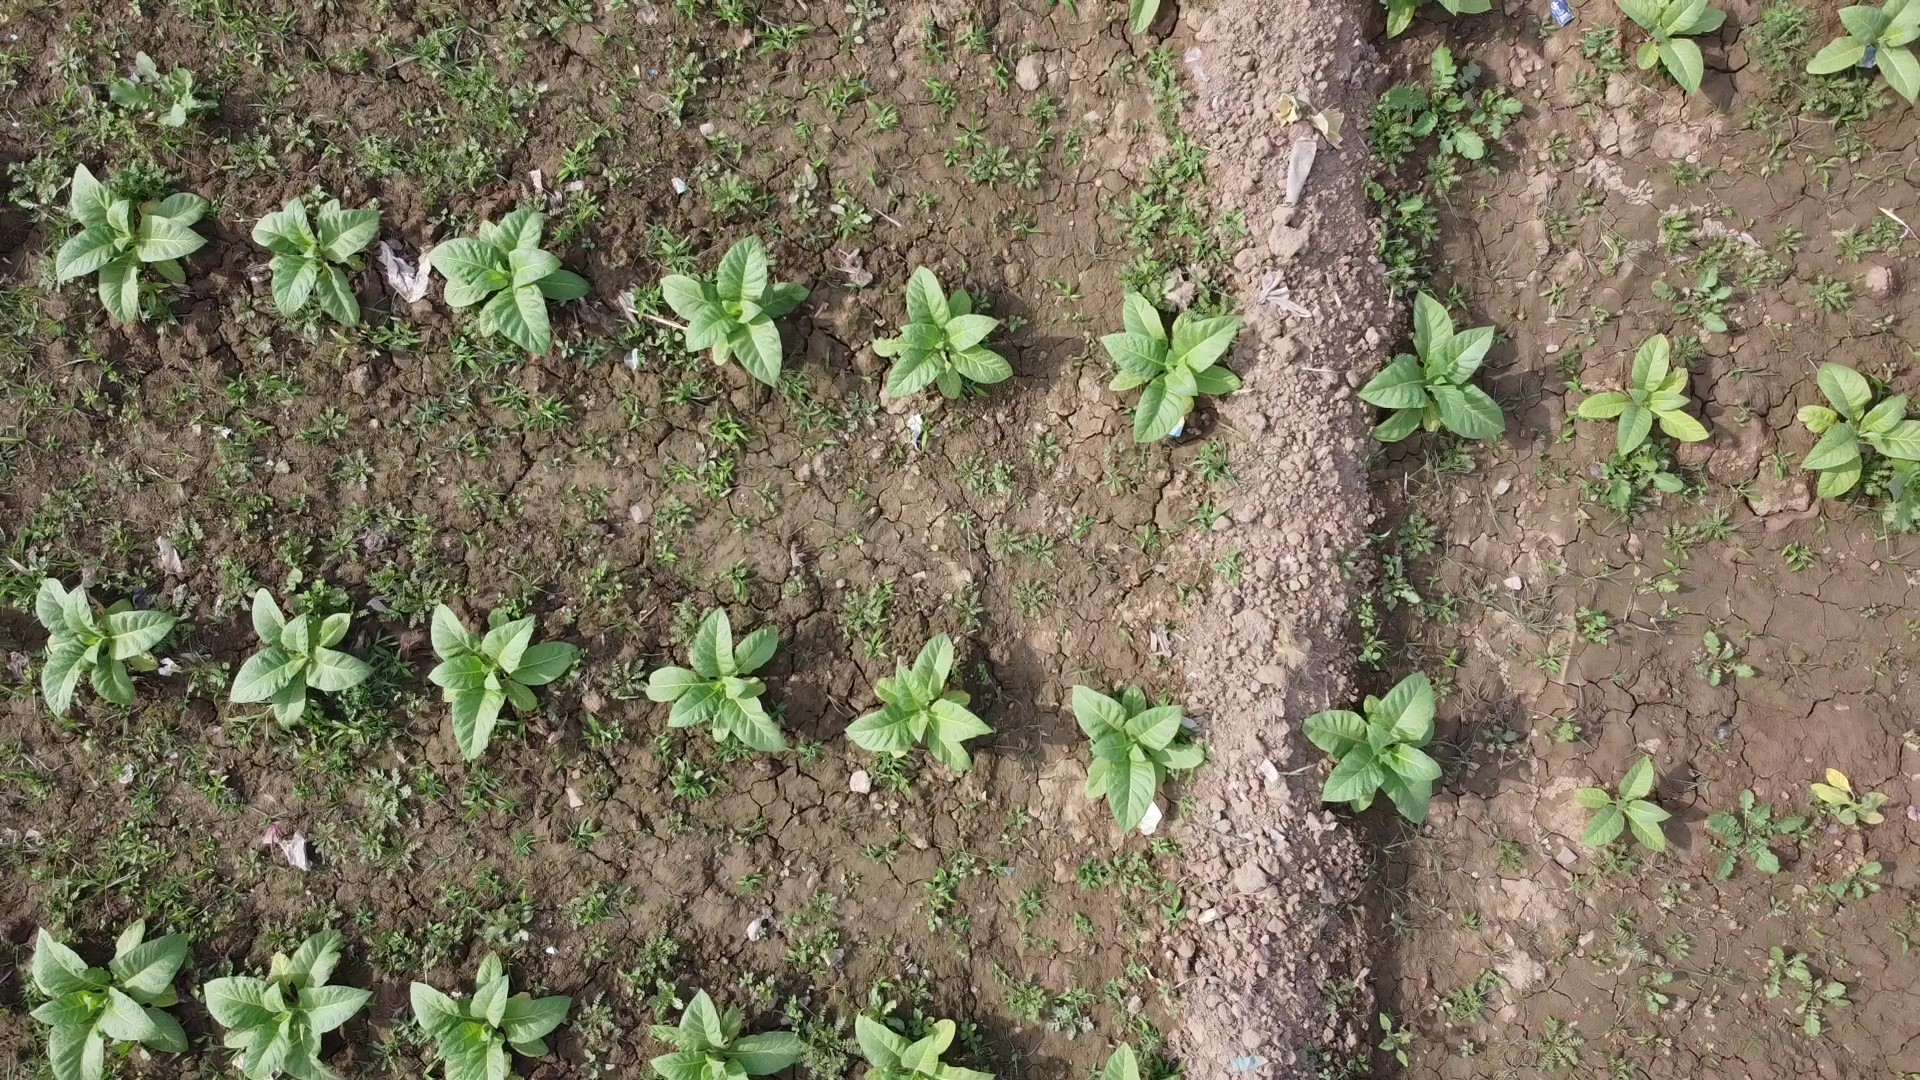weed: (1332, 663, 1494, 846), (629, 585, 803, 738), (876, 639, 1025, 816), (1081, 702, 1263, 839), (24, 947, 211, 1074), (245, 573, 377, 747), (394, 969, 570, 1080), (1356, 308, 1520, 426), (443, 222, 588, 351), (418, 594, 551, 732), (256, 177, 390, 308), (39, 579, 174, 708), (672, 256, 822, 368), (69, 185, 207, 291), (1599, 351, 1722, 458), (1580, 740, 1683, 867), (237, 936, 338, 1065), (1124, 301, 1244, 407), (891, 288, 990, 390), (650, 992, 760, 1080), (1593, 0, 1722, 71), (863, 1014, 982, 1080), (1806, 9, 1920, 71), (1812, 385, 1907, 458), (1801, 757, 1894, 830), (1380, 0, 1502, 26), (1096, 1040, 1162, 1079), (1124, 0, 1156, 28)
